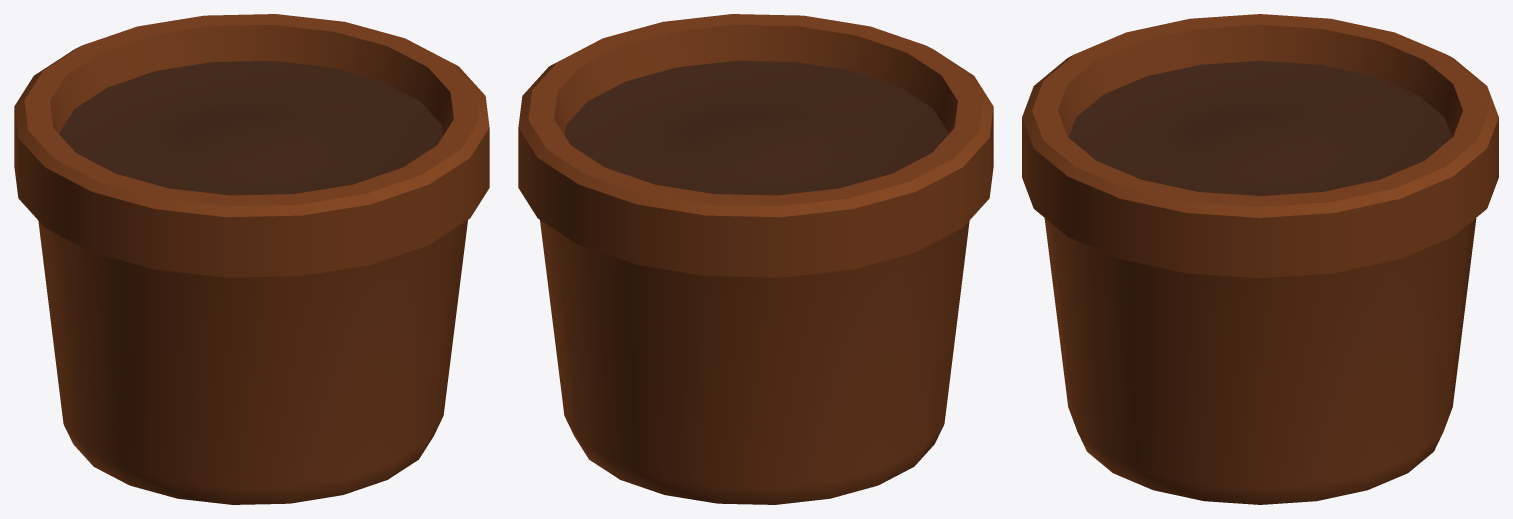
Rendered from Sem_Flowerpot_Colour.fbx.
The picture shows the model from 3 angles, left to right: view 1: azimuth 30°, elevation 25°; view 2: azimuth 150°, elevation 25°; view 3: azimuth 270°, elevation 25°; orthographic projection.
Visible parts, largest first — view 1: pCylinder2; view 2: pCylinder2; view 3: pCylinder2.
Boxes of the visible parts, x1,y1,x2,y2 form: pCylinder2: (14,14,489,504); pCylinder2: (518,14,993,504); pCylinder2: (1022,14,1498,504).
Size of the model in its own units: 4.83 by 3.55 by 4.83.
1 material, 1 textured.
